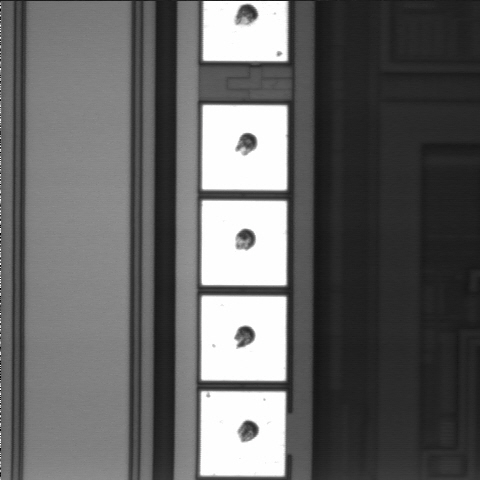pad: (202, 105, 287, 190), (201, 296, 286, 381), (200, 391, 285, 476), (202, 201, 287, 285)
